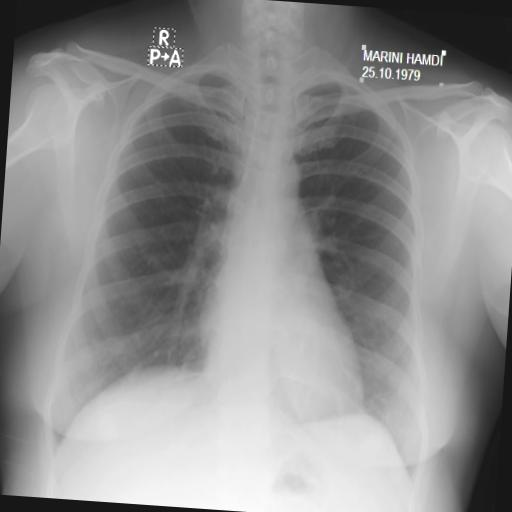normal: (36, 18, 458, 500)
